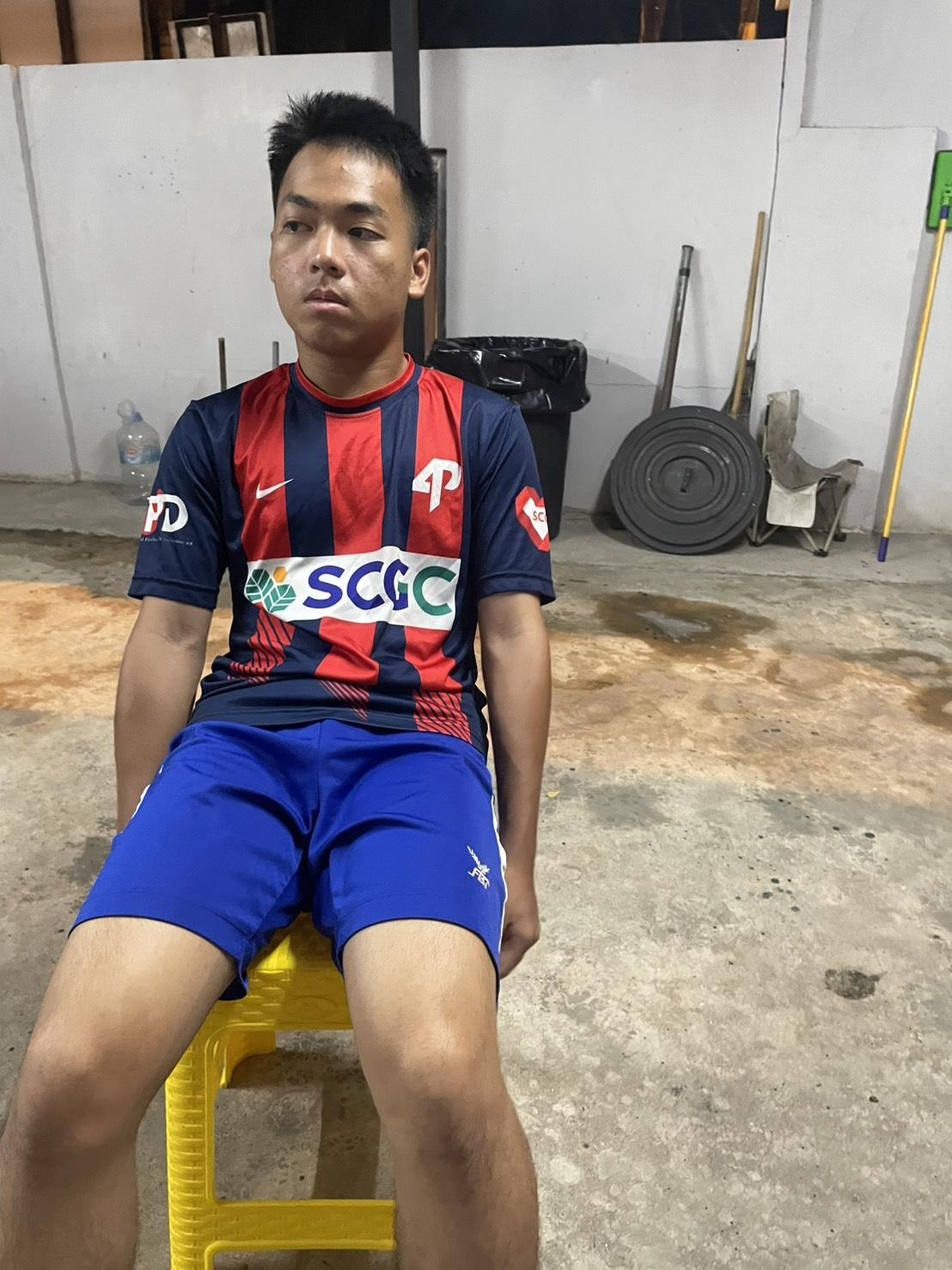BadPosture: (0, 90, 553, 1269)
